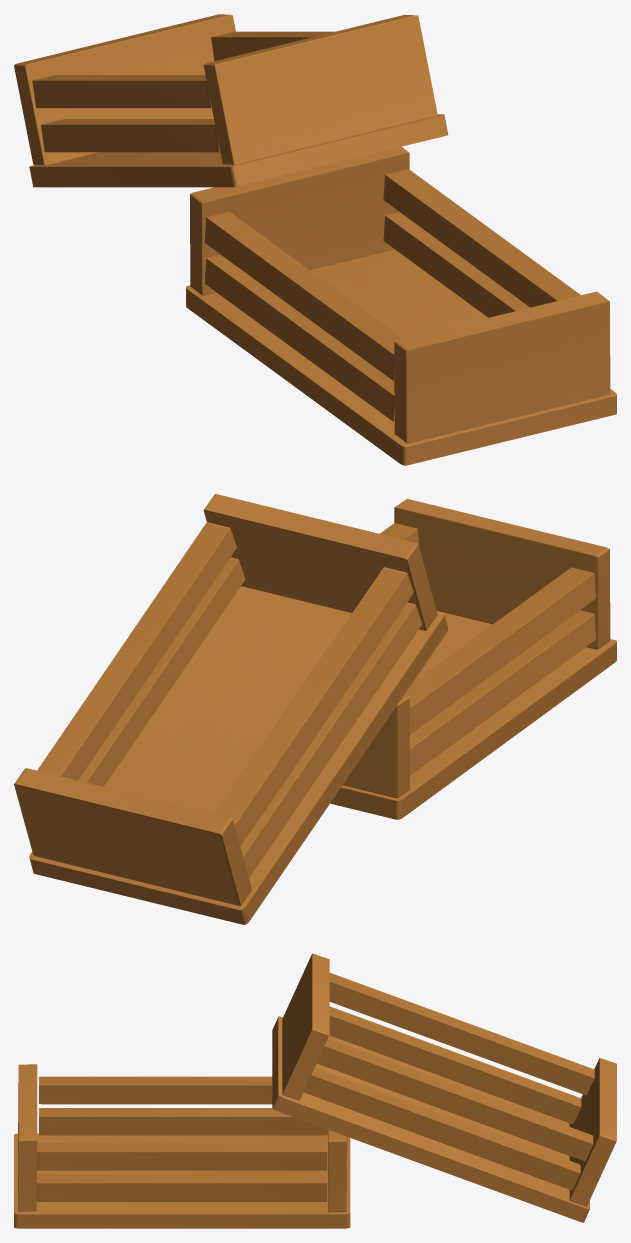
The model's file is Caixotes.fbx.
The picture shows the model from 3 angles, top to bottom: view 1: azimuth 30°, elevation 25°; view 2: azimuth 150°, elevation 25°; view 3: azimuth 270°, elevation 25°; orthographic projection. The views are drawn at different scales.
Parts seen in each view (by area): view 1: Cube, Cube.002; view 2: Cube.002, Cube; view 3: Cube.002, Cube.
Boxes of the visible parts, x1,y1,x2,y2 form: Cube: (186, 146, 616, 465); Cube.002: (14, 14, 448, 187); Cube.002: (14, 494, 448, 924); Cube: (330, 499, 616, 819); Cube.002: (272, 953, 616, 1222); Cube: (14, 1064, 350, 1228).
Size of the model in its own units: 35.29 by 40.42 by 112.
1 material, 1 textured.
